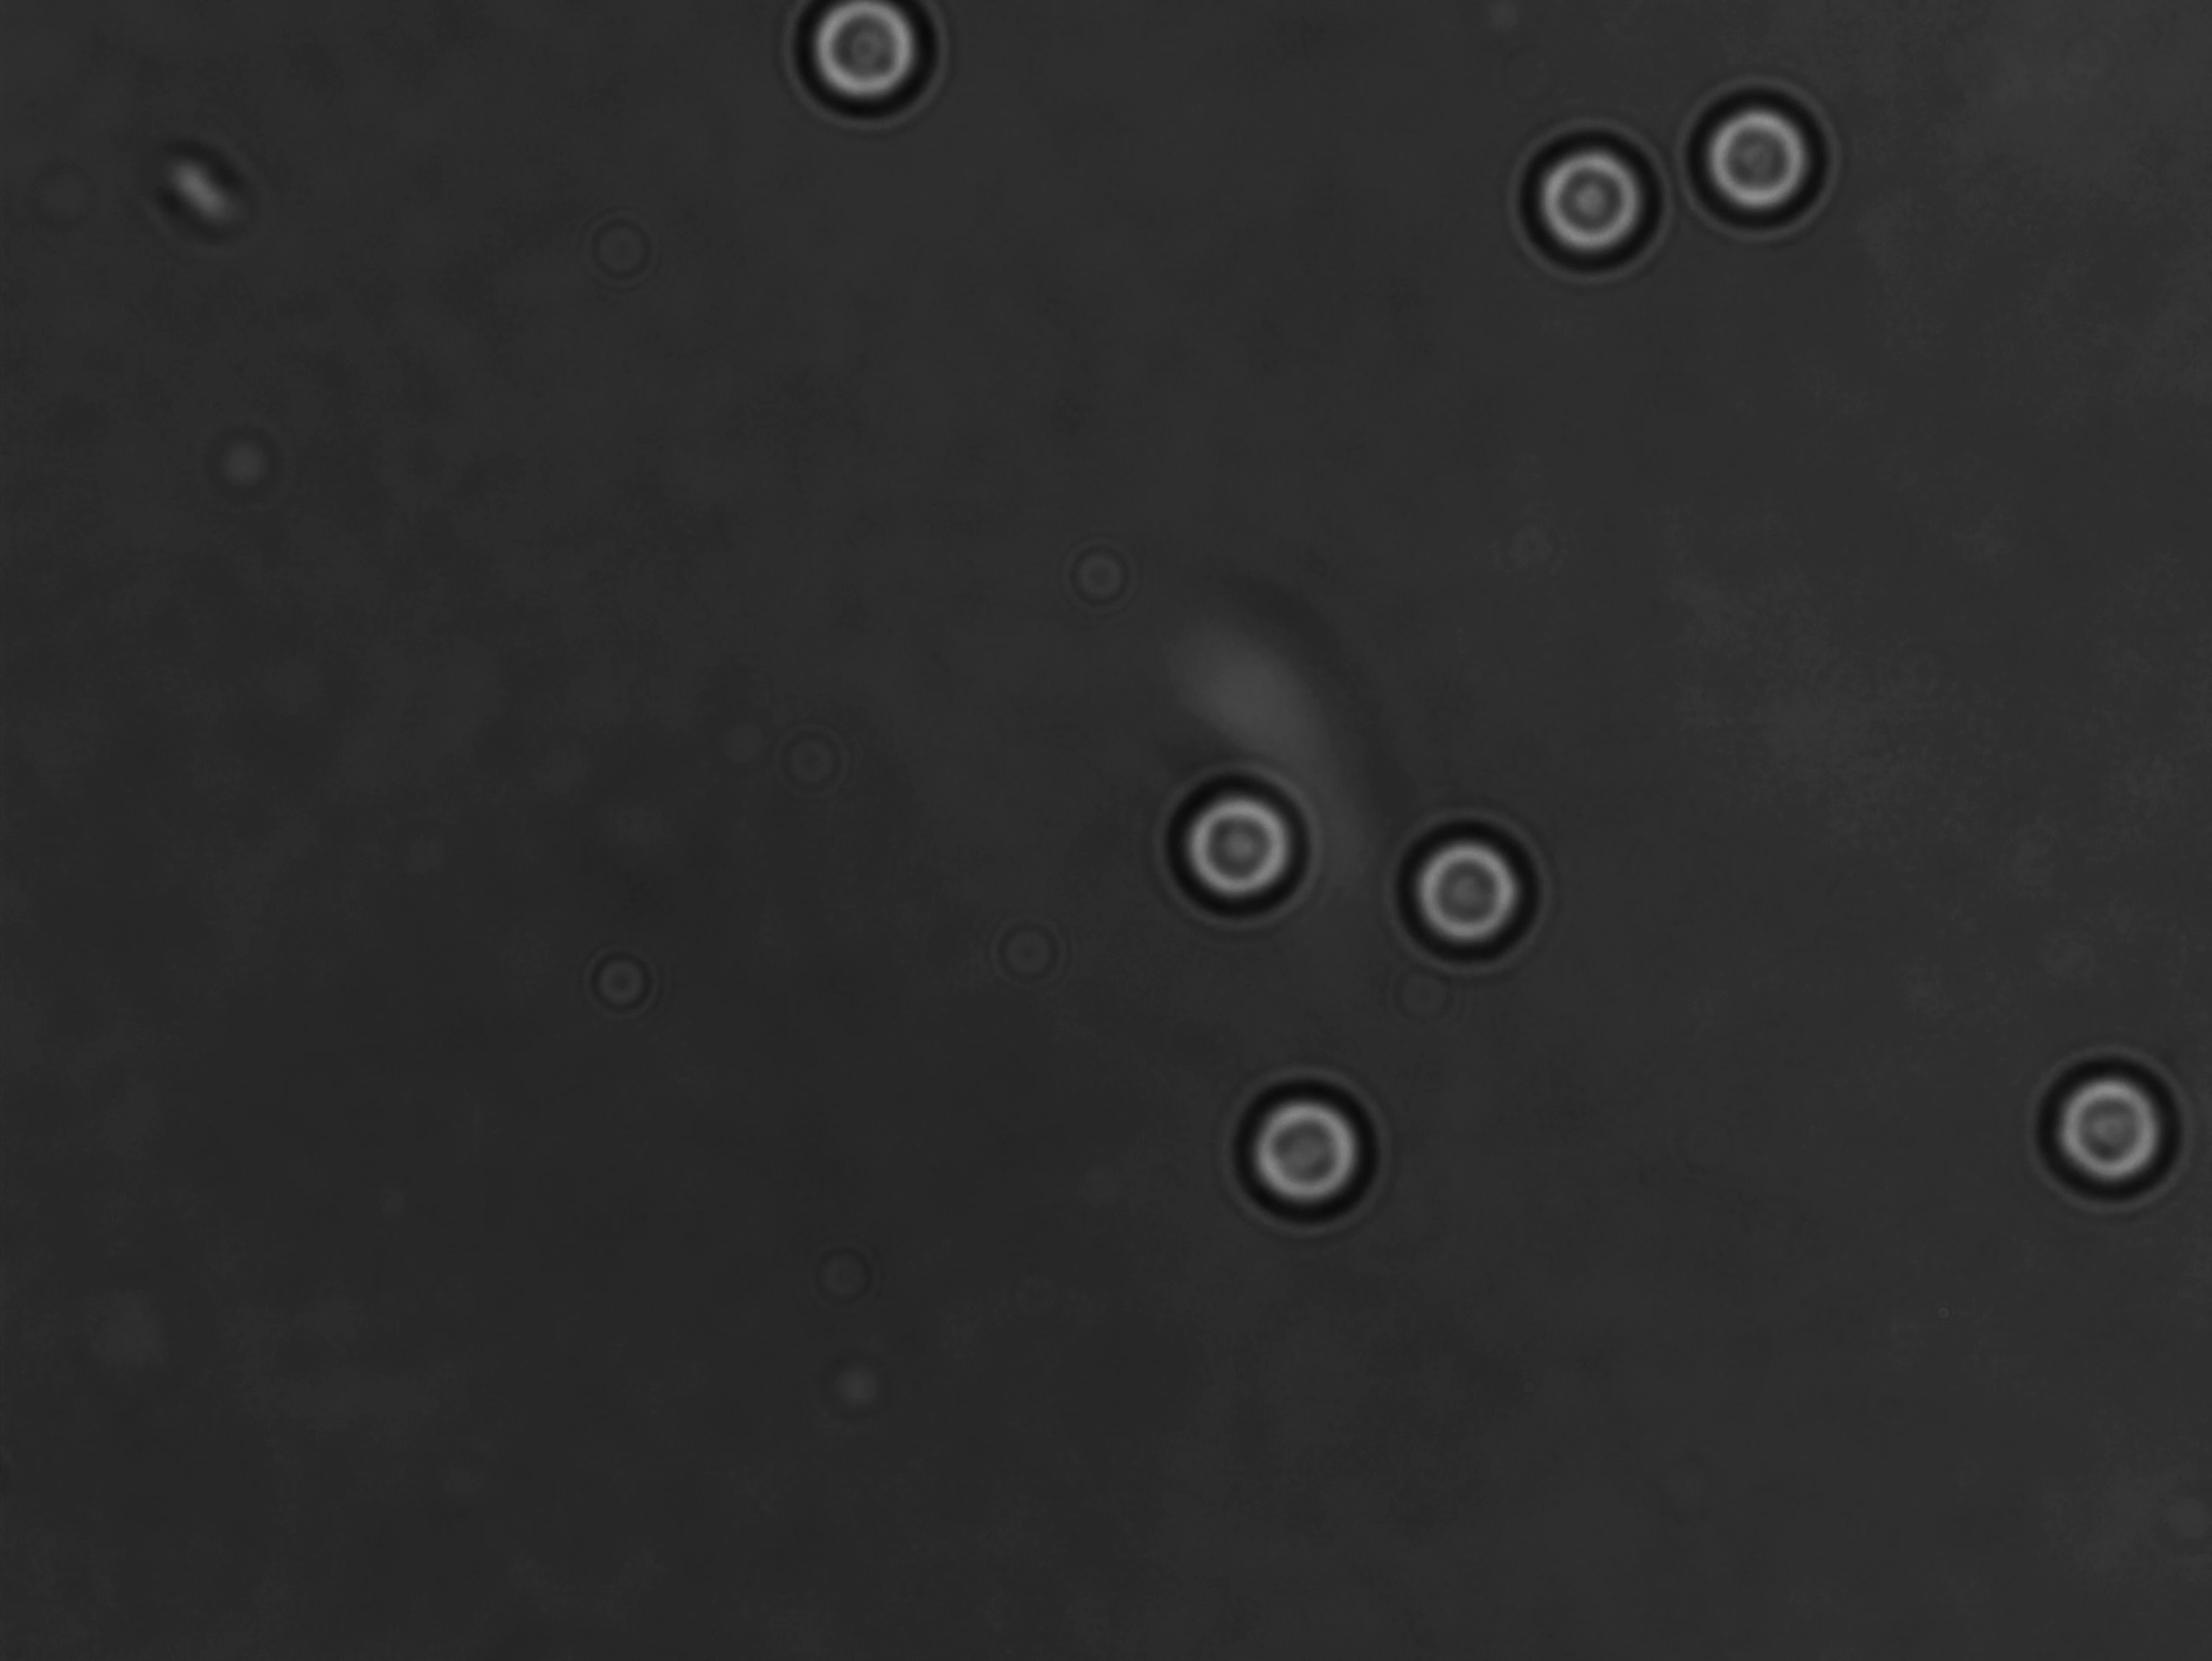depth:40: (2017, 1042, 2195, 1209), (1225, 1070, 1394, 1230), (1387, 818, 1558, 977), (1500, 122, 1675, 277), (1158, 761, 1329, 918), (1682, 84, 1840, 237)
